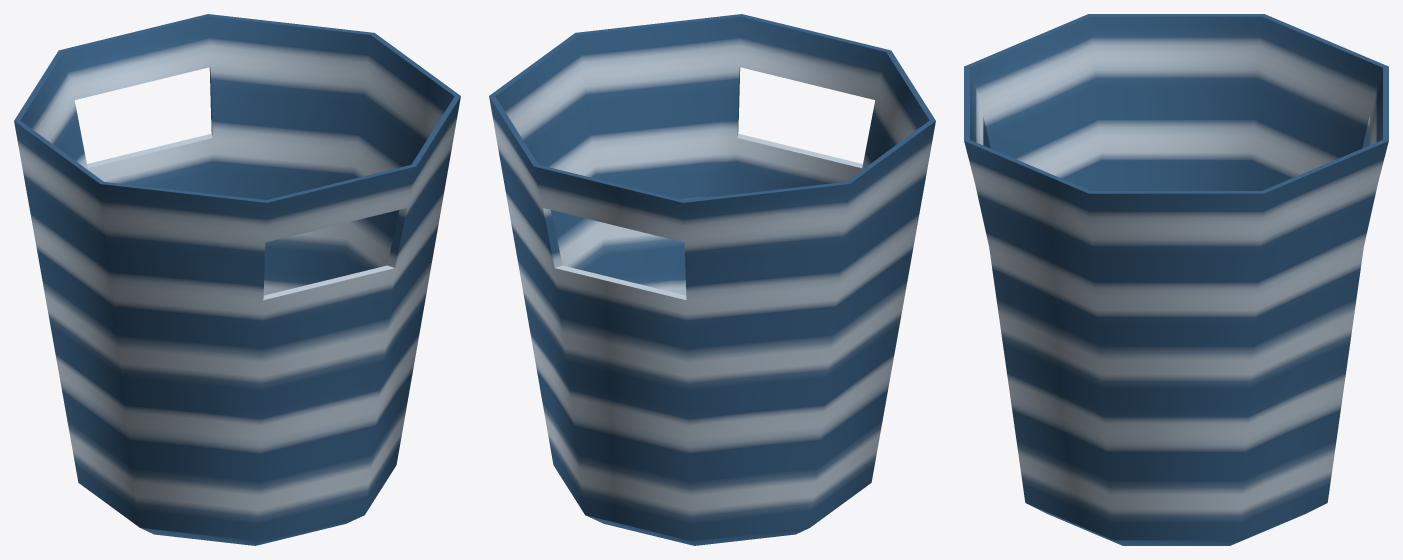
The model's file is 11_prop_trashcan.FBX.
3 renders of one model, left to right at view 1: azimuth 30°, elevation 25°; view 2: azimuth 150°, elevation 25°; view 3: azimuth 270°, elevation 25°, orthographic.
Visible parts, largest first — view 1: prop_trashcan; view 2: prop_trashcan; view 3: prop_trashcan.
Boxes of the visible parts, x1,y1,x2,y2 form: prop_trashcan: (14, 14, 460, 545); prop_trashcan: (489, 14, 935, 545); prop_trashcan: (964, 14, 1388, 545).
Bounding box in the file's own units: 20.33 × 20.47 × 20.33.
